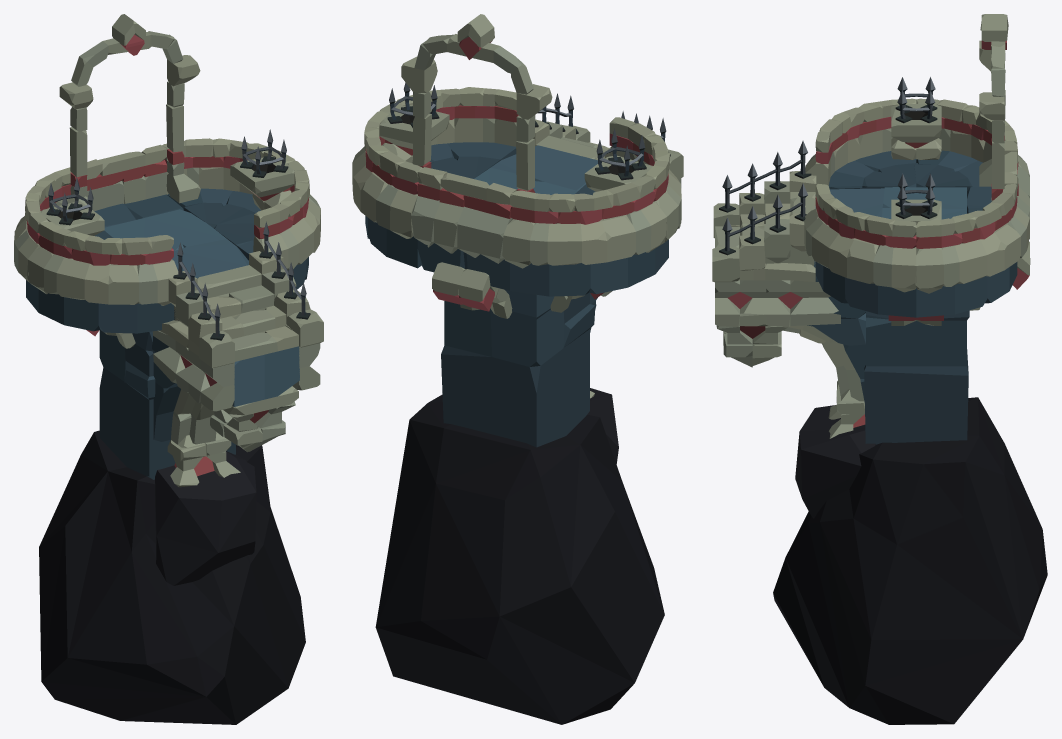
The model's file is bridge_cap.fbx.
3 views of the same model, side by side, from view 1: azimuth 30°, elevation 25°; view 2: azimuth 150°, elevation 25°; view 3: azimuth 270°, elevation 25° (orthographic). The views are drawn at different scales.
Parts seen in each view (by area): view 1: bridge_cap; view 2: bridge_cap; view 3: bridge_cap.
Part boxes in pixels (x1,y1,x2,y2): bridge_cap: [14, 14, 323, 724]; bridge_cap: [352, 14, 683, 724]; bridge_cap: [712, 14, 1047, 724].
Size of the model in its own units: 650 by 1459 by 666.
